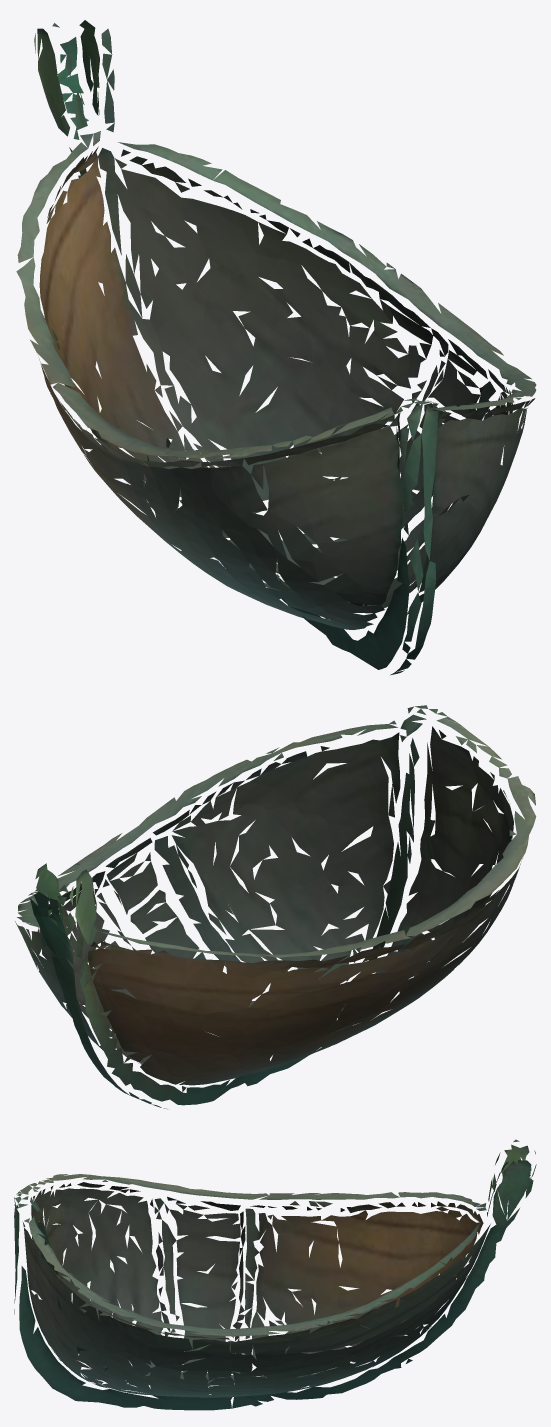
The model's file is sunken_ship.glb.
The picture shows the model from 3 angles, top to bottom: view 1: azimuth 30°, elevation 25°; view 2: azimuth 150°, elevation 25°; view 3: azimuth 270°, elevation 25°; orthographic projection. The views are drawn at different scales.
Visible parts, largest first — view 1: world; view 2: world; view 3: world.
Boxes of the visible parts, box(x1,y1,x2,y2) form: world: box(16, 20, 536, 675); world: box(15, 705, 536, 1109); world: box(14, 1139, 536, 1410).
Size of the model in its own units: 0.6086 by 0.5697 by 0.9971.
Materials: 1 (1 with a texture image).
